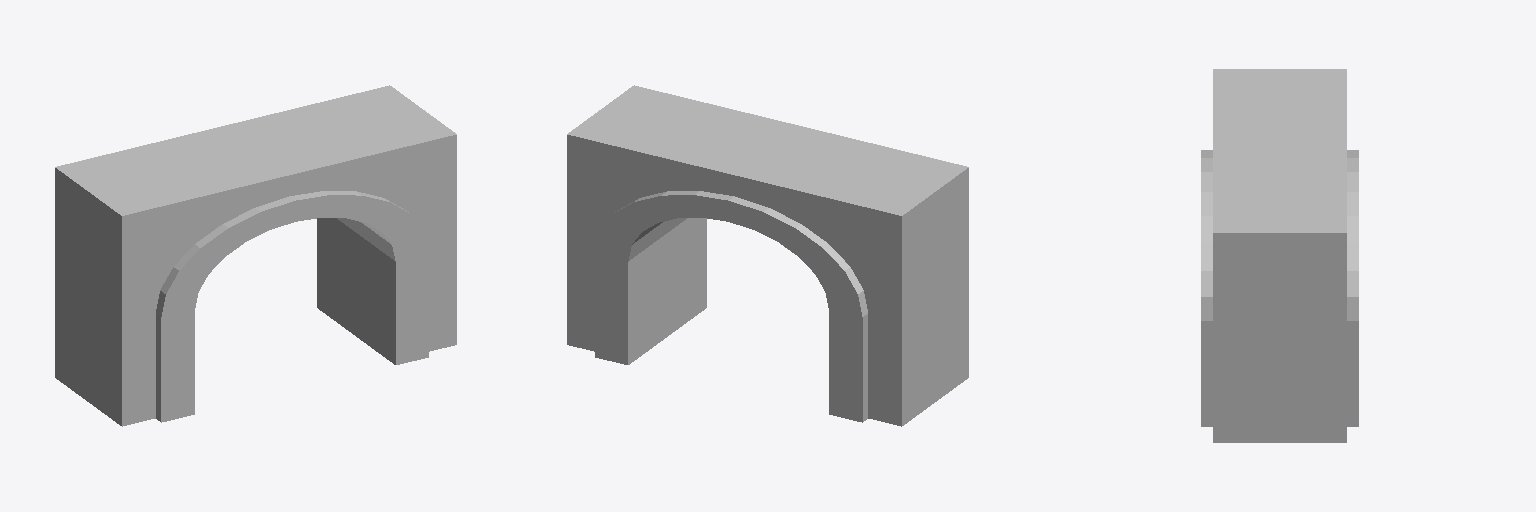
The model's file is Tunnel.obj.
3 views of the same model, side by side, from view 1: azimuth 30°, elevation 25°; view 2: azimuth 150°, elevation 25°; view 3: azimuth 270°, elevation 25° (orthographic).
Parts seen in each view (by area): view 1: mergedBlocks; view 2: mergedBlocks; view 3: mergedBlocks.
Boxes of the visible parts, box(x1,y1,x2,y2) form: mergedBlocks: box(55, 85, 456, 426); mergedBlocks: box(567, 85, 968, 426); mergedBlocks: box(1201, 69, 1358, 442).
Bounding box in the file's own units: 5 × 3 × 2.03.